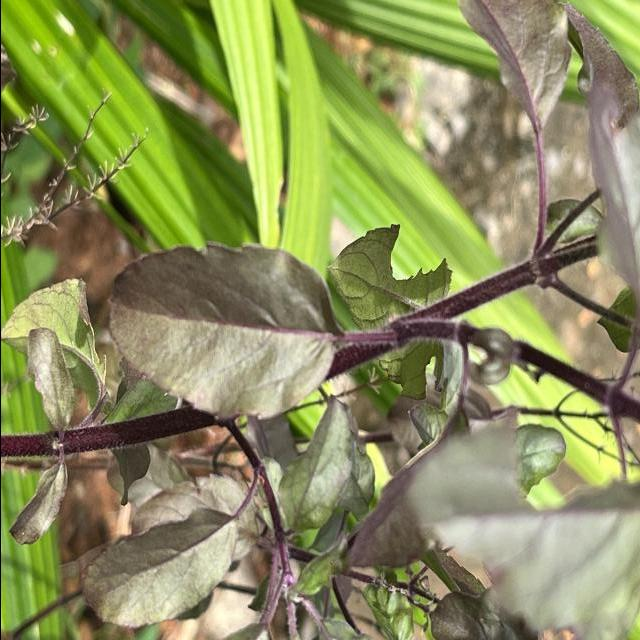Ocimum tenuiflorum: (104, 238, 343, 424), (76, 504, 240, 630)
